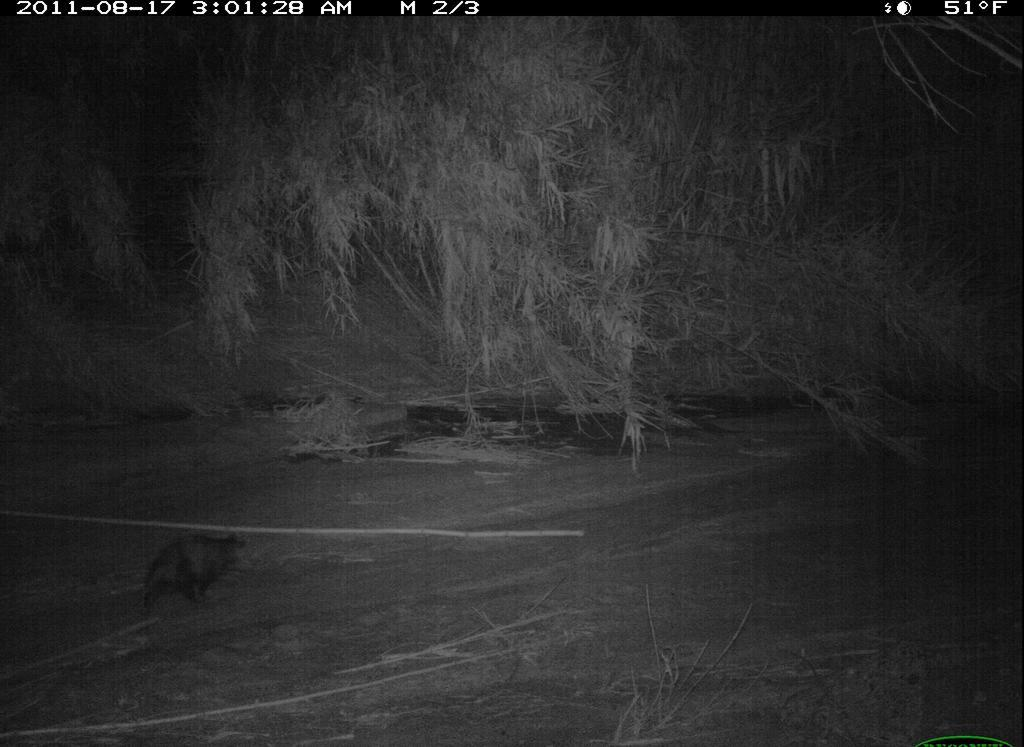opossum: (89, 514, 284, 648)
